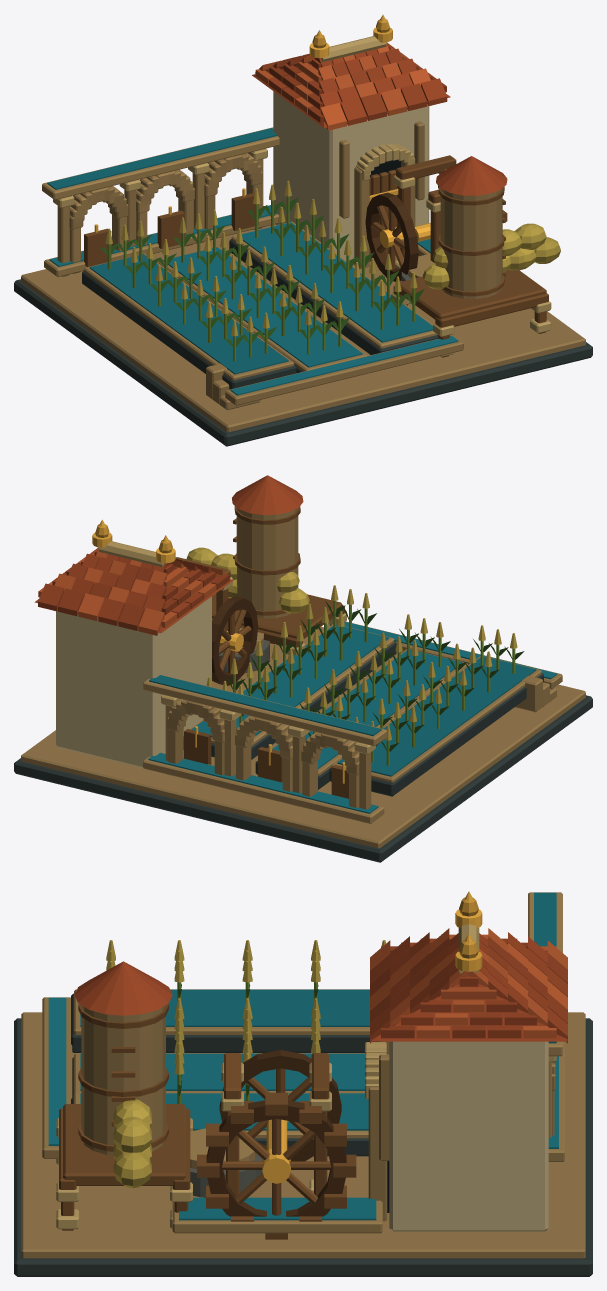
3 renders of one model, top to bottom at view 1: azimuth 30°, elevation 25°; view 2: azimuth 150°, elevation 25°; view 3: azimuth 270°, elevation 25°, orthographic. The views are drawn at different scales.
Visible parts, largest first — view 1: farm_11_structure, farm_11_metal; view 2: farm_11_structure, farm_11_metal; view 3: farm_11_structure, farm_11_metal.
Boxes of the visible parts, bbox=[...] form: farm_11_structure: bbox=[14, 19, 592, 446]; farm_11_metal: bbox=[94, 14, 430, 247]; farm_11_structure: bbox=[14, 475, 592, 862]; farm_11_metal: bbox=[92, 519, 345, 783]; farm_11_structure: bbox=[14, 892, 592, 1276]; farm_11_metal: bbox=[262, 891, 482, 1183].
Size of the model in its own units: 5.6 by 3.29 by 5.46.
